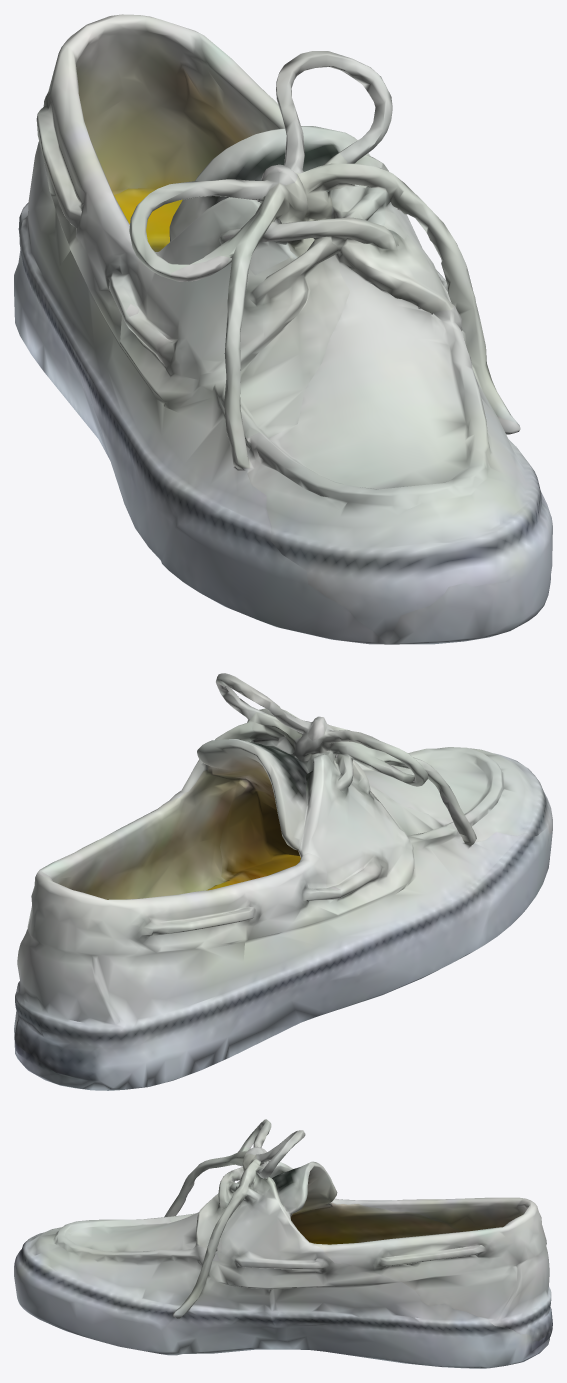
File: Womens_Sequin_Bahama_in_White_Sequin_yGVsSA4tOwJ-high.glb
3 renders of one model, top to bottom at view 1: azimuth 30°, elevation 25°; view 2: azimuth 150°, elevation 25°; view 3: azimuth 270°, elevation 25°, orthographic. The views are drawn at different scales.
Visible parts, largest first — view 1: Womens_Sequin_Bahama_in_White_Sequin_yGVsSA4tOwJ; view 2: Womens_Sequin_Bahama_in_White_Sequin_yGVsSA4tOwJ; view 3: Womens_Sequin_Bahama_in_White_Sequin_yGVsSA4tOwJ.
Boxes of the visible parts, box(x1,y1,x2,y2) form: Womens_Sequin_Bahama_in_White_Sequin_yGVsSA4tOwJ: box(14, 14, 552, 644); Womens_Sequin_Bahama_in_White_Sequin_yGVsSA4tOwJ: box(14, 673, 552, 1090); Womens_Sequin_Bahama_in_White_Sequin_yGVsSA4tOwJ: box(14, 1119, 552, 1368).
Bounding box in the file's own units: 0.1012 × 0.1062 × 0.2466.
Materials: 1 (1 with a texture image).
